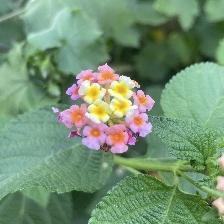common lanthana: (55, 64, 155, 154)
